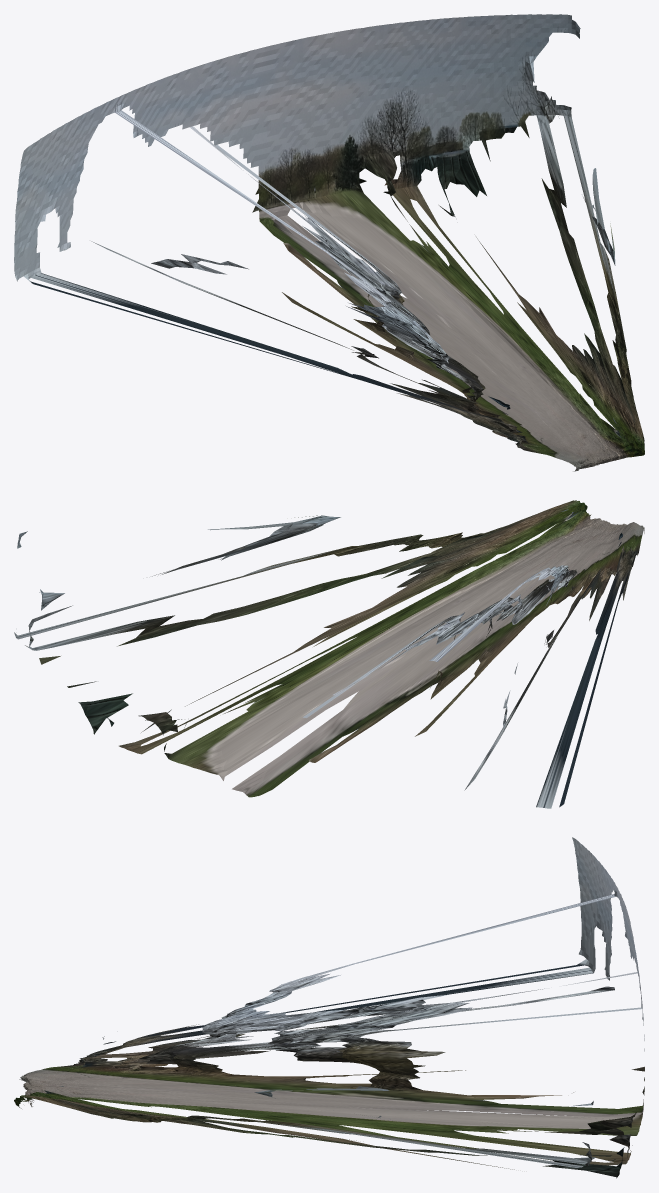
3 renders of one model, top to bottom at view 1: azimuth 30°, elevation 25°; view 2: azimuth 150°, elevation 25°; view 3: azimuth 270°, elevation 25°, orthographic. The views are drawn at different scales.
Parts seen in each view (by area): view 1: defaultobject; view 2: defaultobject; view 3: defaultobject.
Part boxes in pixels (x1,y1,x2,y2): defaultobject: (14, 14, 644, 471); defaultobject: (14, 500, 644, 808); defaultobject: (14, 837, 644, 1178).
Size of the model in its own units: 40.7 by 12.84 by 44.77.
Materials: 1 (1 with a texture image).
